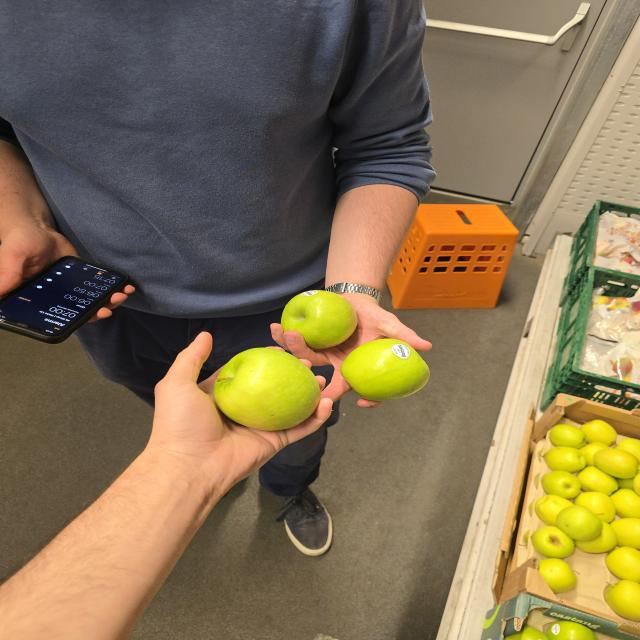Apple: (214, 347, 321, 430), (341, 338, 429, 402), (281, 290, 357, 349), (555, 504, 602, 541), (604, 580, 640, 621), (593, 448, 639, 479), (531, 526, 575, 558), (539, 558, 577, 593), (574, 491, 615, 523), (605, 546, 640, 583), (577, 466, 618, 496), (534, 495, 573, 526), (545, 446, 586, 473), (542, 471, 580, 499), (610, 518, 640, 550), (581, 420, 617, 446), (609, 488, 640, 518), (548, 424, 585, 449)
